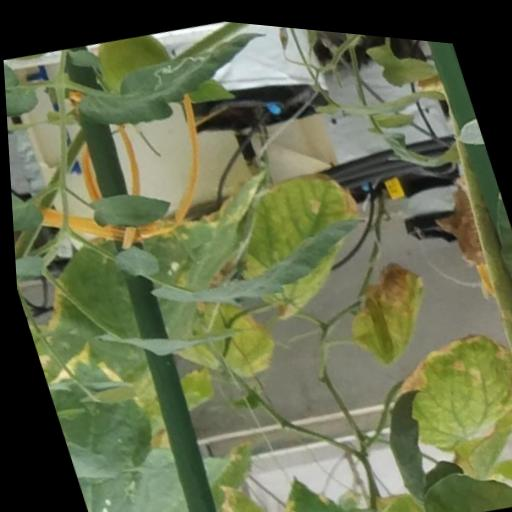Healthy: (83, 176, 176, 243)
Leaf_Miner: (59, 6, 289, 148)
